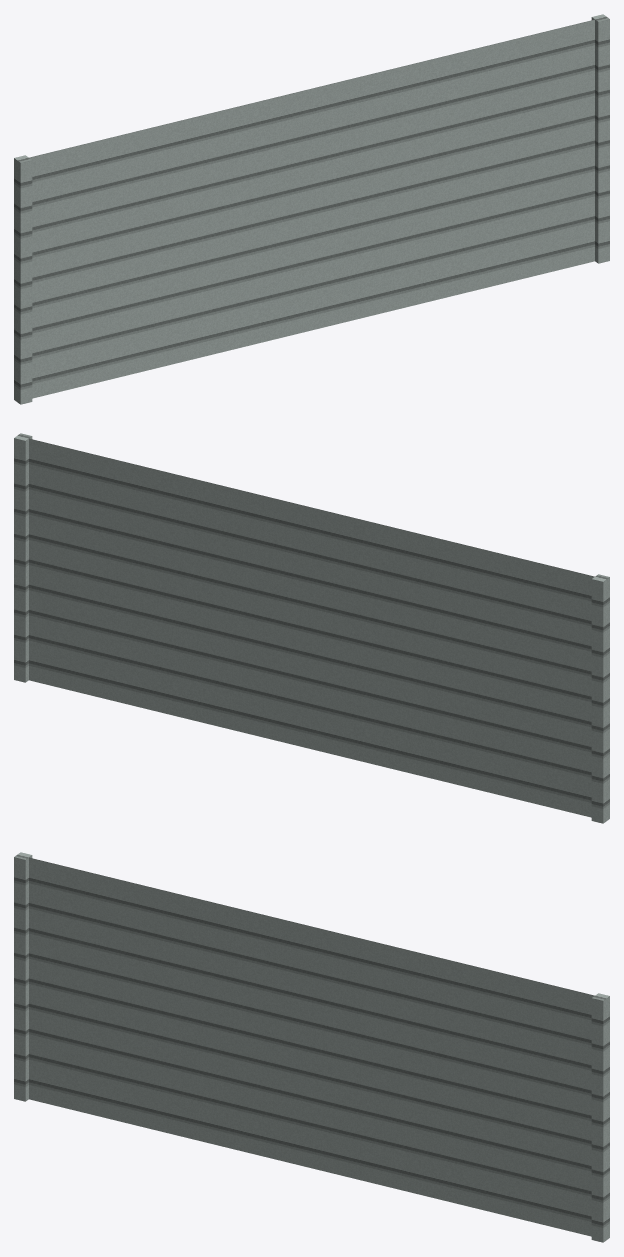
The model's file is fence_snow_plastic.glb.
3 views of the same model, one above another, from view 1: azimuth 30°, elevation 25°; view 2: azimuth 150°, elevation 25°; view 3: azimuth 330°, elevation 25° (orthographic).
Visible parts, largest first — view 1: fence_snow_plastic-col; view 2: fence_snow_plastic-col; view 3: fence_snow_plastic-col.
Boxes of the visible parts, left/top/right/bottom form: fence_snow_plastic-col: left=14, top=14, right=609, bottom=404; fence_snow_plastic-col: left=14, top=433, right=609, bottom=823; fence_snow_plastic-col: left=14, top=852, right=609, bottom=1242.
Bounding box in the file's own units: 3.06 × 1.2 × 0.06.
Materials: 1 (1 with a texture image).
